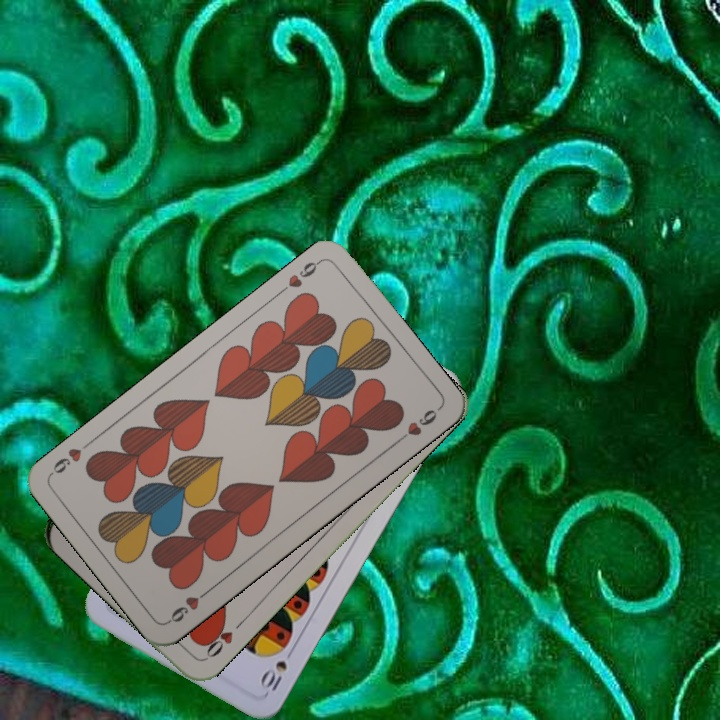H9: (164, 584, 214, 626), (274, 256, 324, 297)
HO: (197, 616, 247, 663)
S10: (257, 643, 298, 697)
